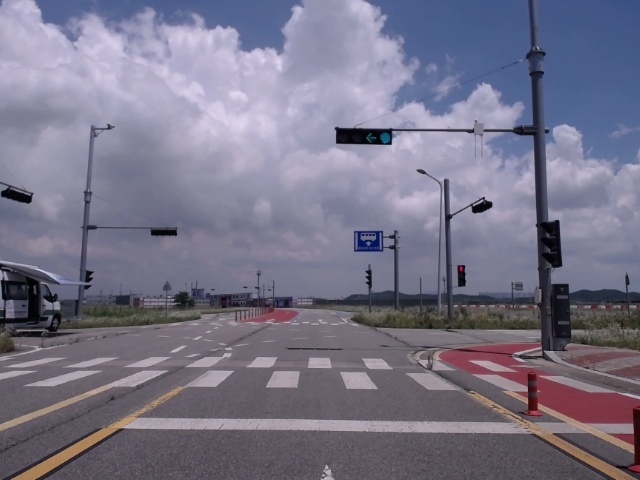all_green_4: (335, 129, 394, 145)
